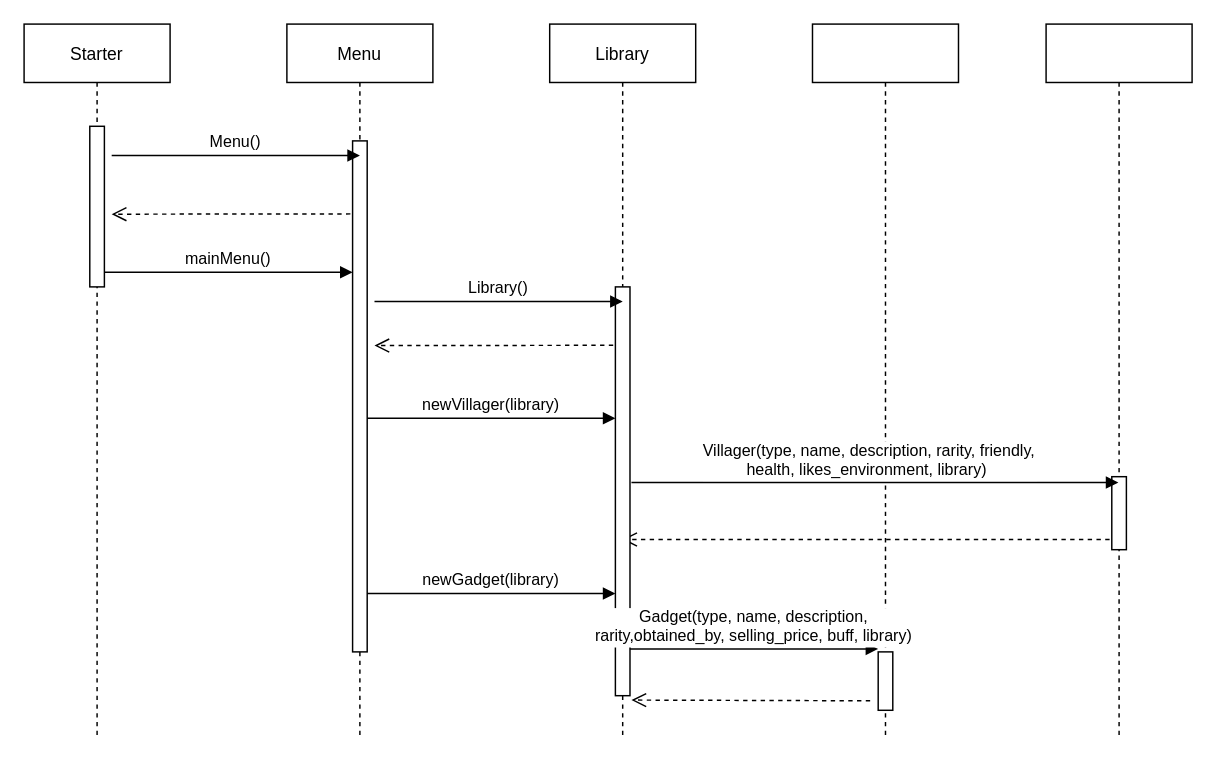
Some shapes in this 1216 by 764 pixel diagram are drawn without their labels. The box of each missing label's shape, as (x1, y1, x2, y2) in pixels:
Gadget: (811, 23, 958, 739)
Villager: (1045, 23, 1192, 739)
